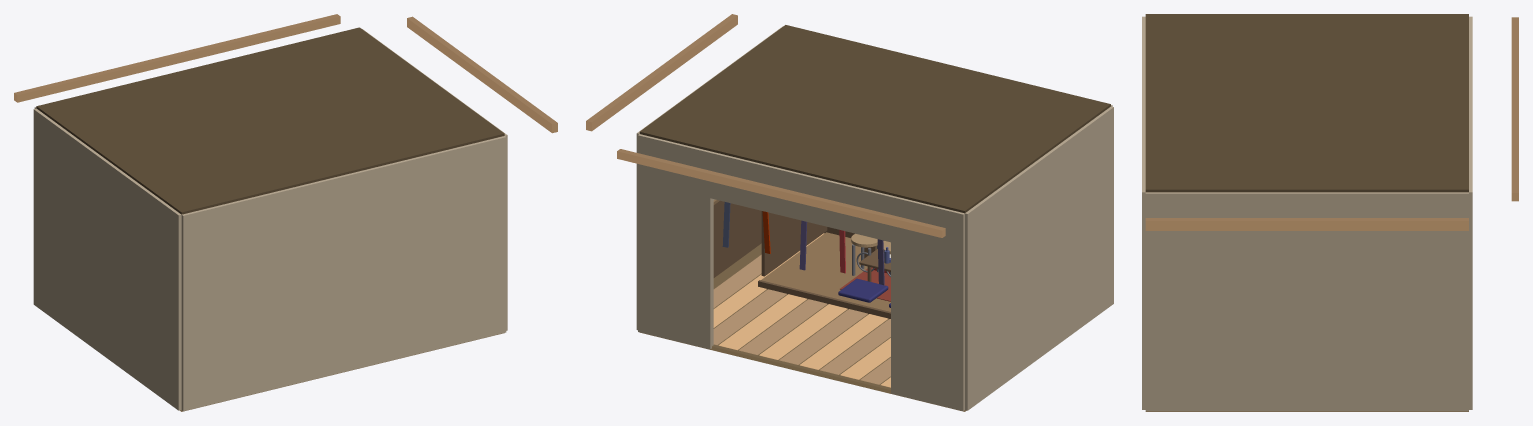
Rendered from izakaya.glb.
The picture shows the model from 3 angles, left to right: view 1: azimuth 30°, elevation 25°; view 2: azimuth 150°, elevation 25°; view 3: azimuth 270°, elevation 25°; orthographic projection. The views are drawn at different scales.
Visible parts, largest first — view 1: BackWall, Ceiling, LeftWall, CeilBeamY2, CeilBeamX3, RightWall; view 2: Ceiling, LeftWall, FrontWallR, FrontWallL, FrontWallTop, Platform, CeilBeamY2, FloorBase, WainRight, CeilBeamX3, Partition_1.58, Plank8 (+12 smaller); view 3: RightWall, Ceiling, CeilBeamX3, BackWall, CeilBeamY2, FrontWallR, FrontWallTop.
Part boxes in pixels (x1,y1,x2,y2): BackWall: [181, 136, 506, 411]; Ceiling: [36, 27, 504, 214]; LeftWall: [33, 108, 181, 410]; CeilBeamY2: [14, 14, 340, 102]; CeilBeamX3: [407, 16, 557, 133]; RightWall: [362, 29, 507, 330]; Ceiling: [639, 25, 1110, 213]; LeftWall: [965, 106, 1113, 410]; FrontWallR: [638, 134, 713, 349]; FrontWallL: [891, 196, 964, 410]; FrontWallTop: [710, 151, 892, 242]; Platform: [761, 232, 890, 311]; CeilBeamY2: [617, 149, 945, 237]; FloorBase: [640, 243, 966, 411]; WainRight: [713, 200, 761, 277]; CeilBeamX3: [586, 14, 737, 131]; Partition_1.58: [761, 211, 827, 276]; Plank8: [779, 309, 867, 364]; RightWall: [1145, 192, 1468, 411]; Ceiling: [1145, 14, 1468, 192]; CeilBeamX3: [1145, 218, 1468, 230]; BackWall: [1142, 16, 1145, 409]; CeilBeamY2: [1511, 17, 1518, 201]; FrontWallR: [1469, 153, 1472, 409]; FrontWallTop: [1469, 55, 1472, 152].
Size of the model in its own units: 5.28 by 2.65 by 4.08.
